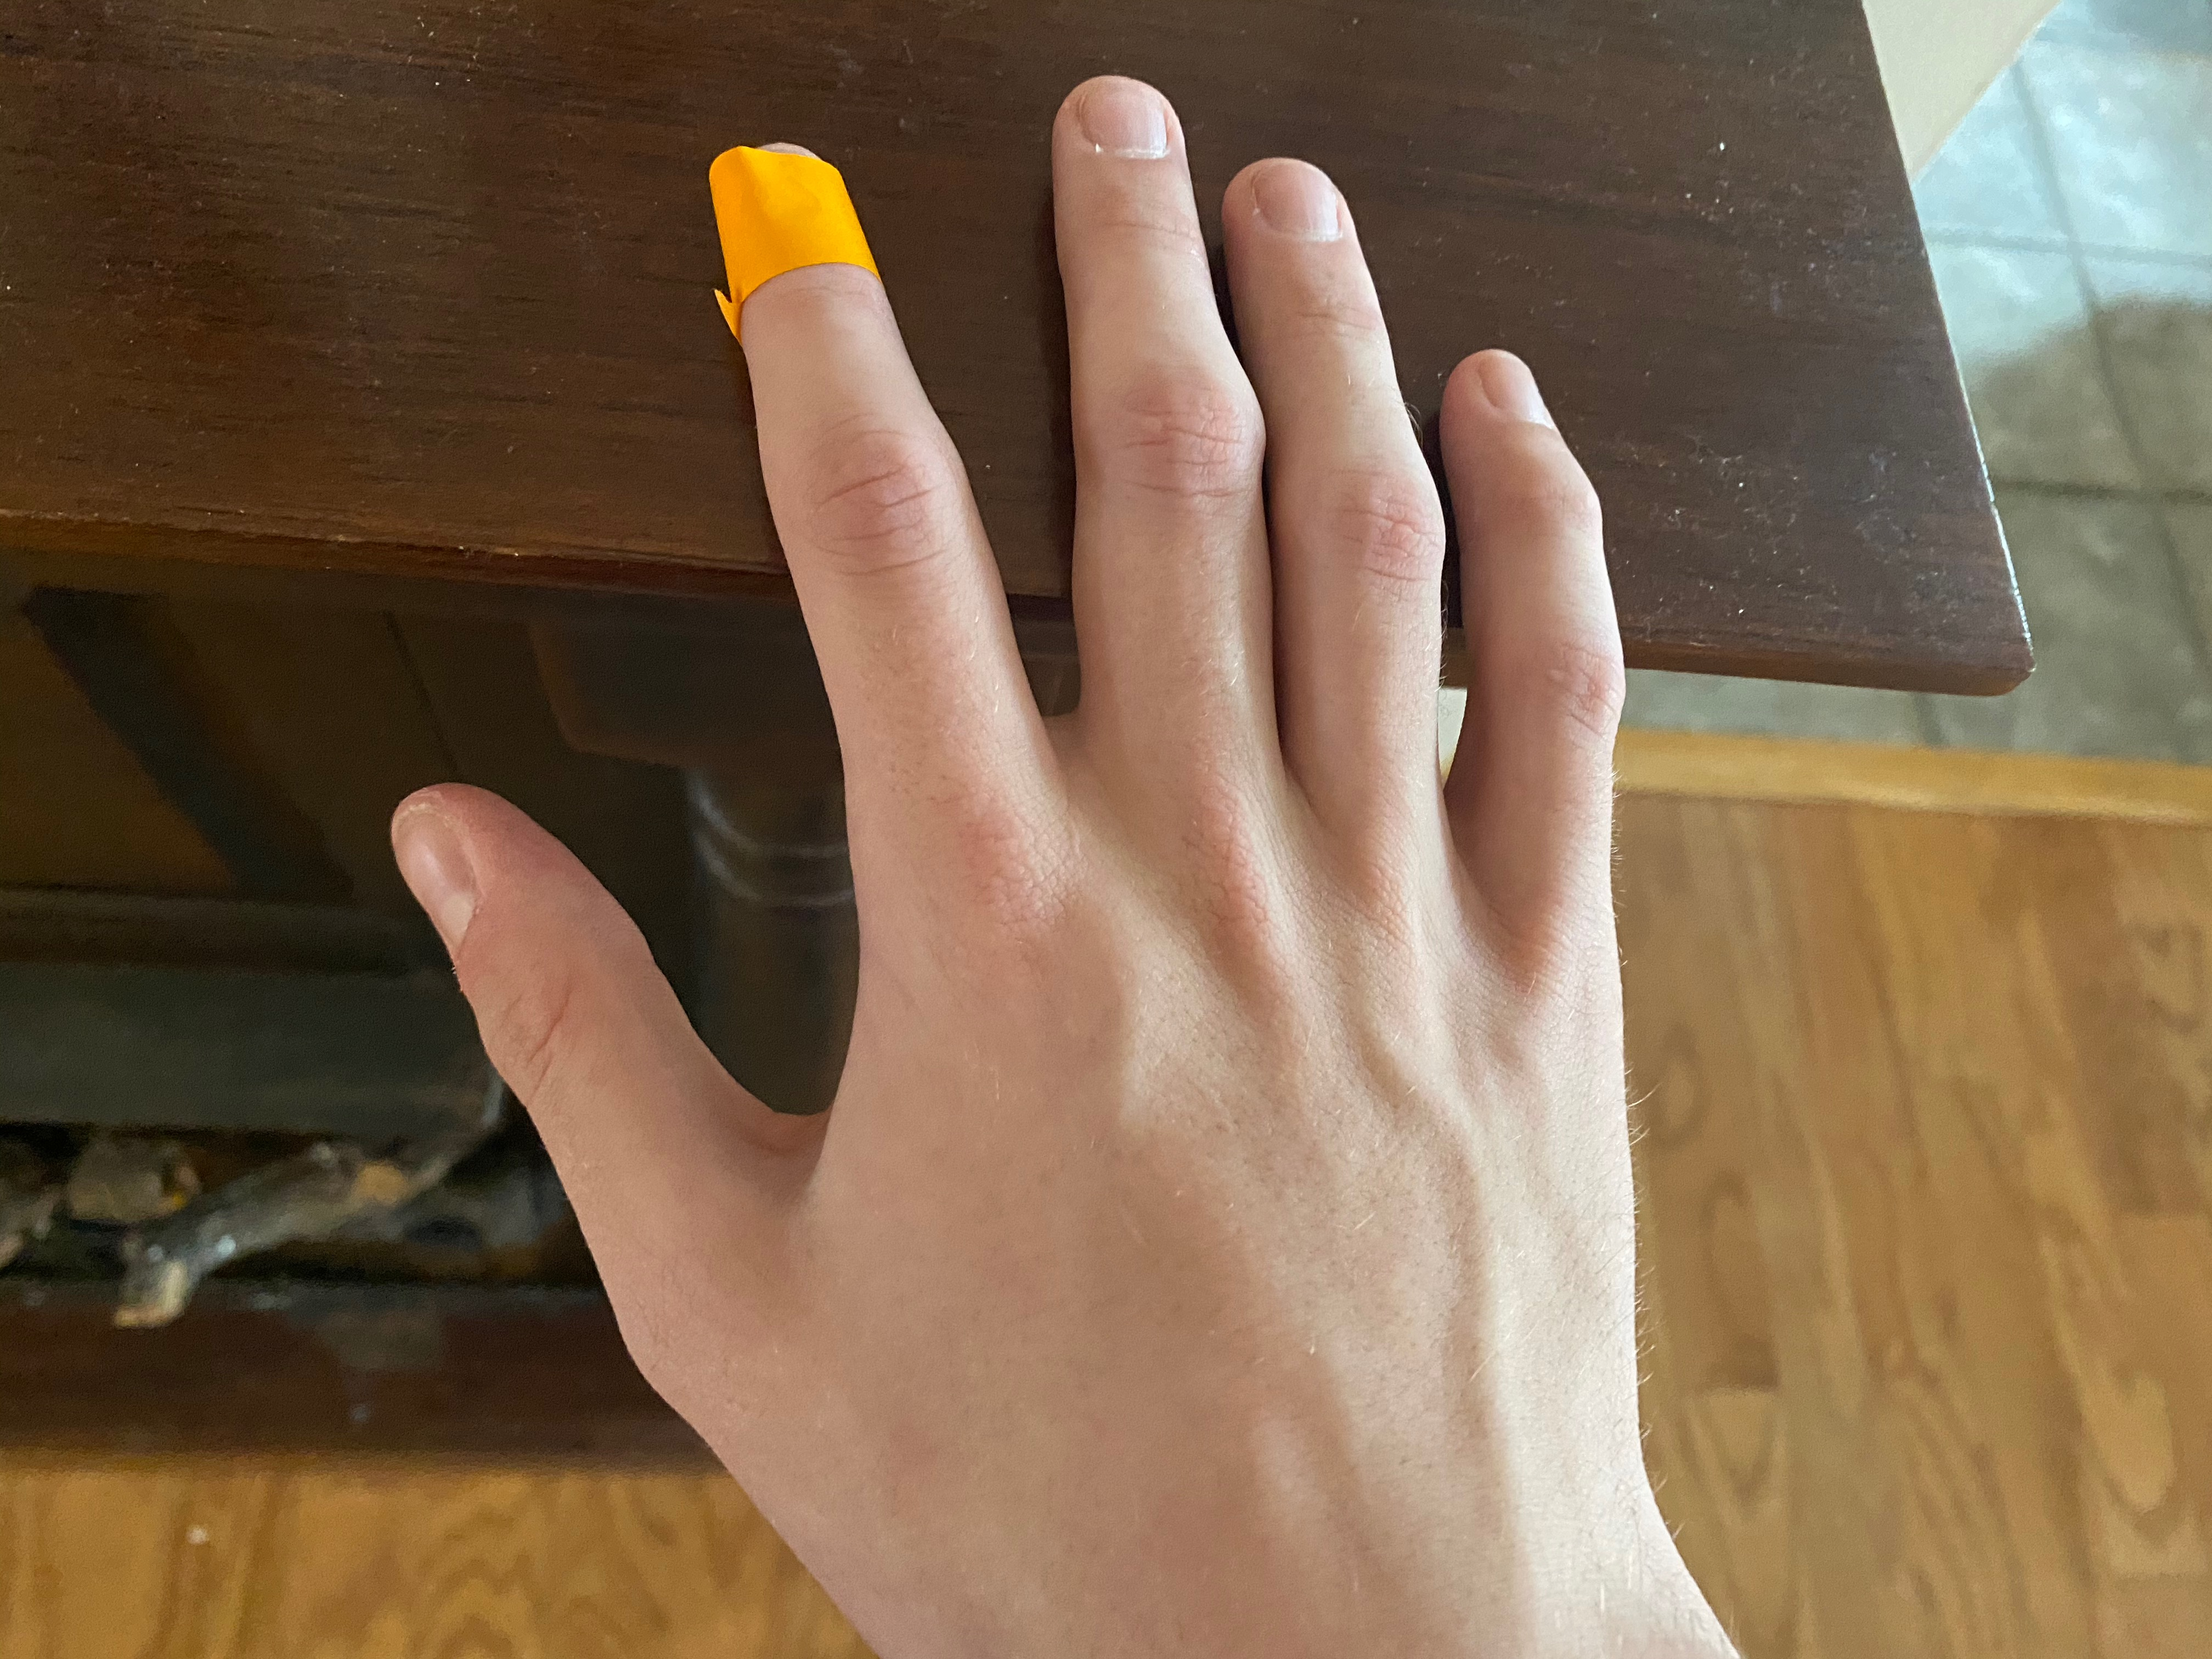fingertip: (674, 132, 914, 369)
